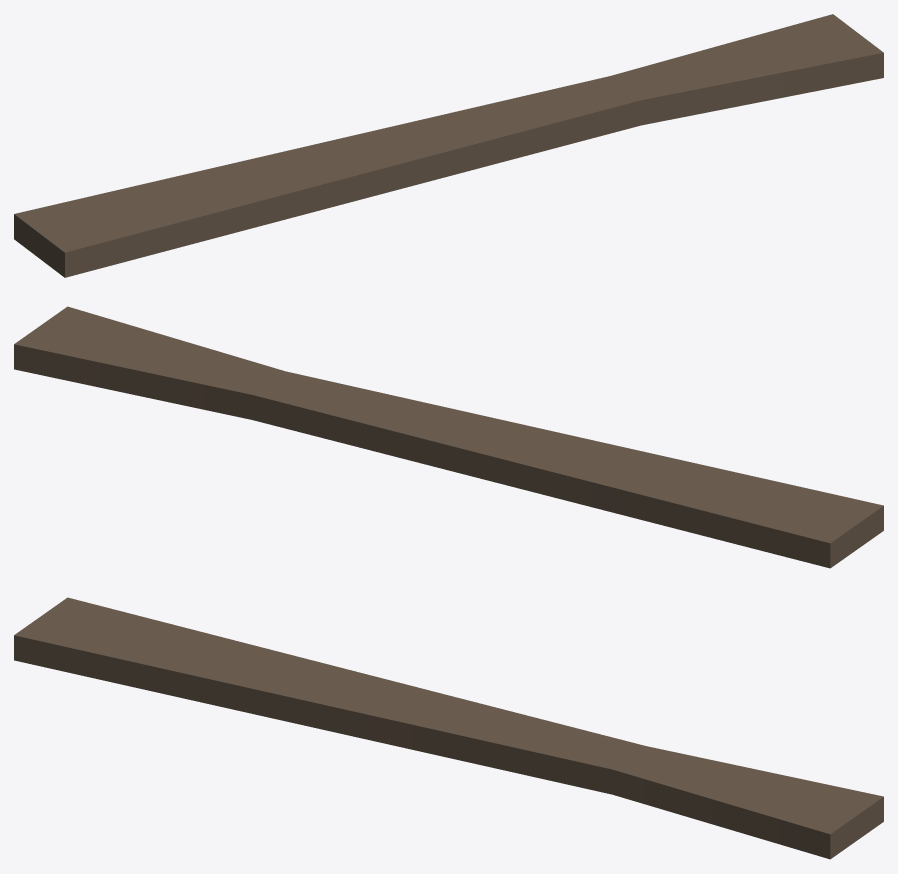
The model's file is WoodenPlank_Mesh.fbx.
The picture shows the model from 3 angles, top to bottom: view 1: azimuth 30°, elevation 25°; view 2: azimuth 150°, elevation 25°; view 3: azimuth 330°, elevation 25°; orthographic projection.
Parts seen in each view (by area): view 1: WoodenPlank_Mesh; view 2: WoodenPlank_Mesh; view 3: WoodenPlank_Mesh.
Boxes of the visible parts, left/top/right/bottom form: WoodenPlank_Mesh: left=14, top=14, right=883, bottom=277; WoodenPlank_Mesh: left=14, top=306, right=883, bottom=568; WoodenPlank_Mesh: left=14, top=597, right=883, bottom=859.
Size of the model in its own units: 181 by 5.32 by 20.04.
